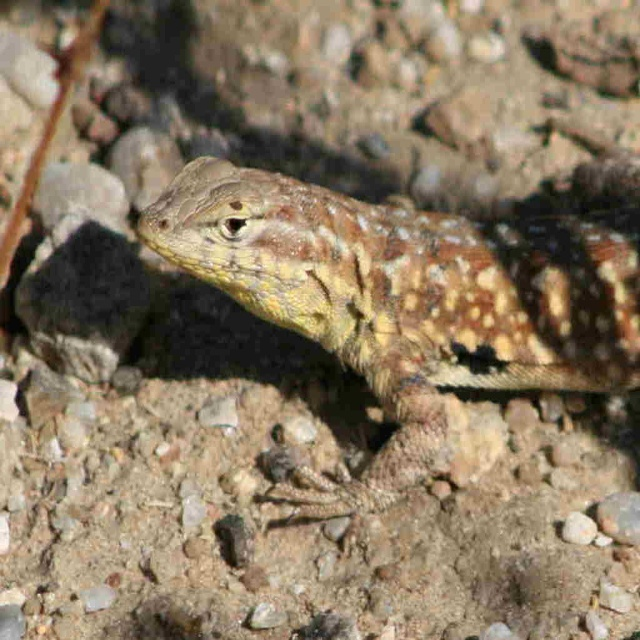Lizard: (154, 144, 610, 576)
